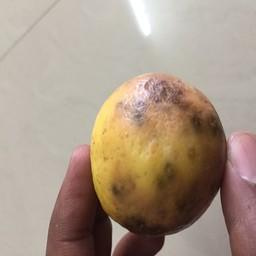Bad_lime: (88, 67, 231, 246)
